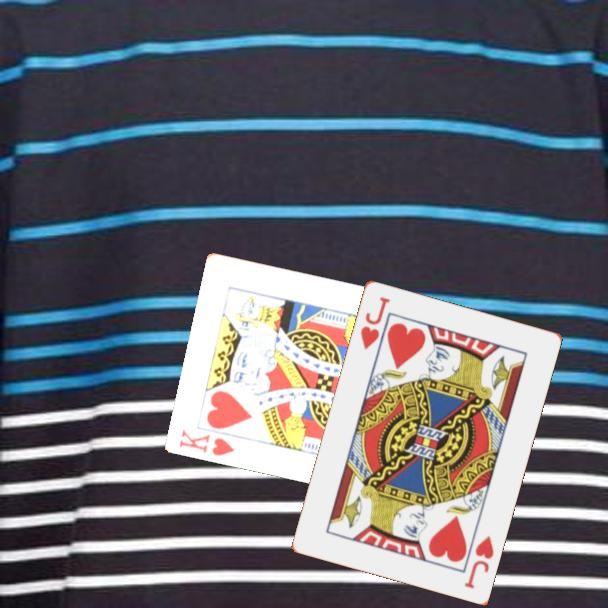h11: (357, 293, 393, 352), (461, 532, 496, 591)
h13: (176, 425, 238, 458)
